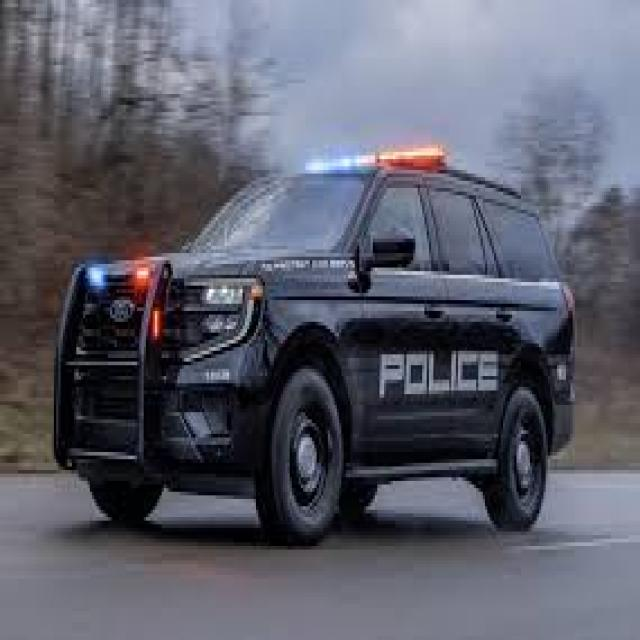Police: (38, 105, 600, 558)
